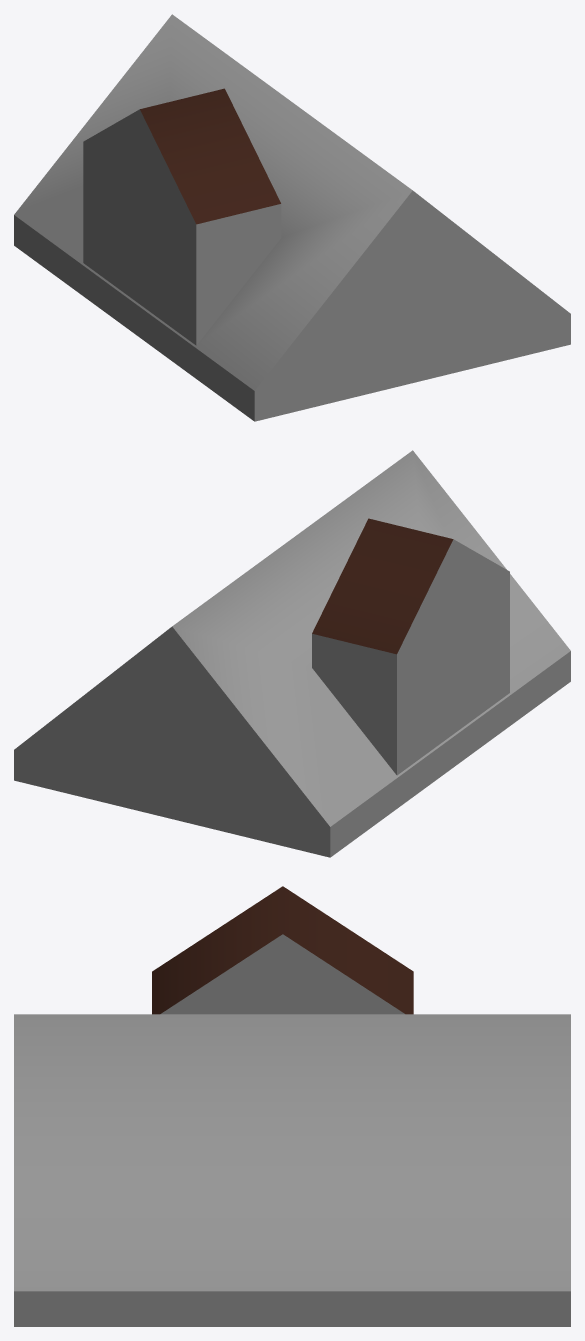
File: Roof2_LOD1.FBX
3 renders of one model, top to bottom at view 1: azimuth 30°, elevation 25°; view 2: azimuth 150°, elevation 25°; view 3: azimuth 270°, elevation 25°, orthographic. The views are drawn at different scales.
Visible parts, largest first — view 1: Box018; view 2: Box018; view 3: Box018.
Part boxes in pixels (left/top/right/bottom): Box018: left=14, top=14, right=570, bottom=421; Box018: left=14, top=450, right=570, bottom=857; Box018: left=14, top=886, right=570, bottom=1326.
Size of the model in its own units: 187 by 128 by 246.
